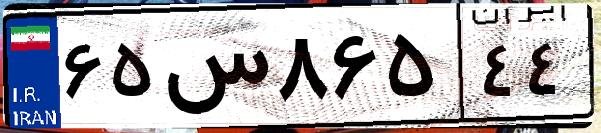4: (475, 38, 525, 113), (525, 38, 570, 115)
5: (385, 28, 445, 110), (110, 28, 158, 98)
6: (330, 28, 385, 110), (57, 26, 110, 100)
8: (270, 28, 330, 110)
س: (158, 20, 270, 120)
